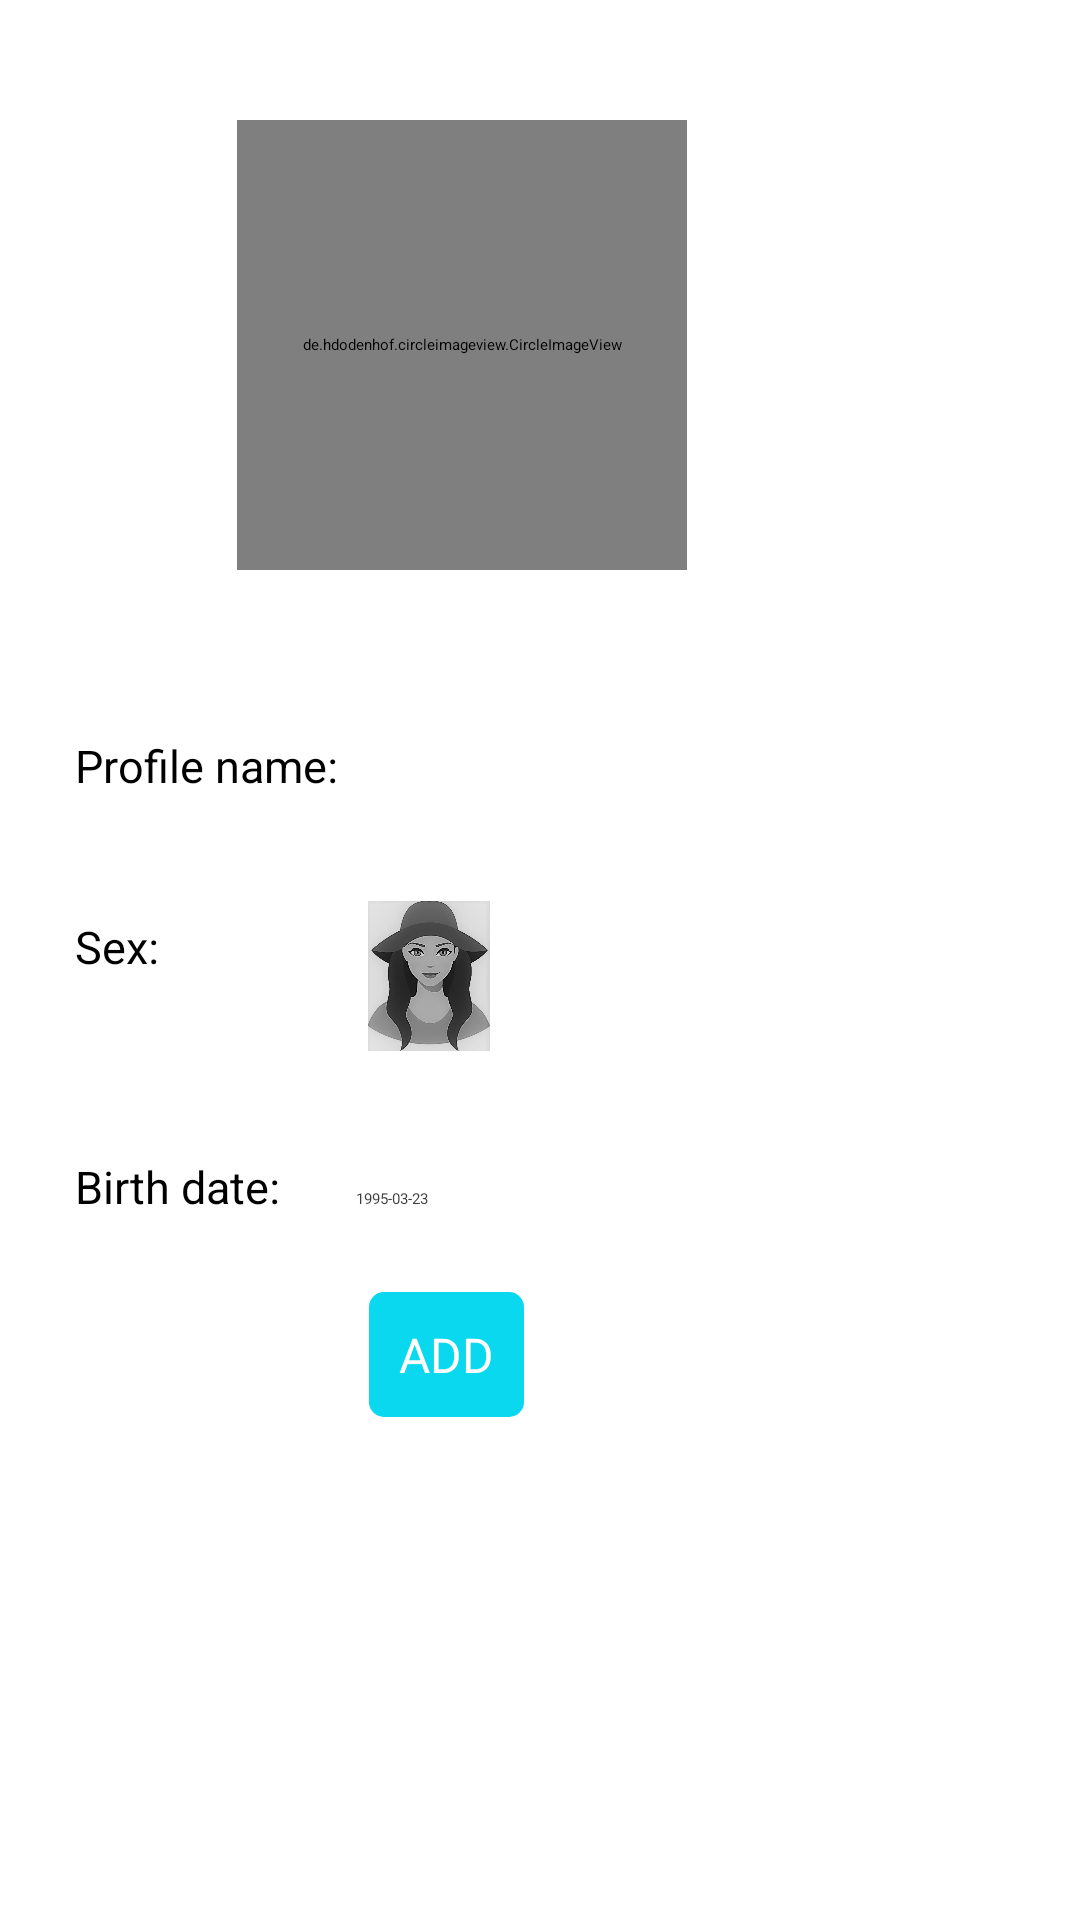

Named icons in this screenshot (1080×1920) and their bounding boxes, (x1, y1, x2, y2):
female: (368, 901, 490, 1051)
